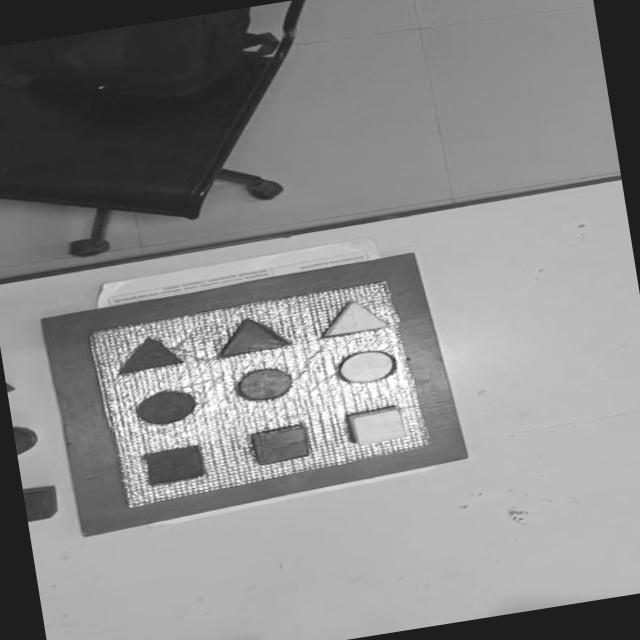bcube: (23, 484, 62, 524)
mtcircle: (132, 384, 202, 430)
mtcube: (140, 442, 210, 487)
mttriangle: (111, 329, 187, 376)
rcircle: (236, 362, 298, 404)
rcube: (249, 422, 313, 467)
rtriangle: (214, 312, 292, 358)
wb: (84, 276, 434, 509)
ycircle: (335, 346, 399, 388)
ycube: (346, 404, 410, 448)
ytriangle: (316, 296, 392, 340)
